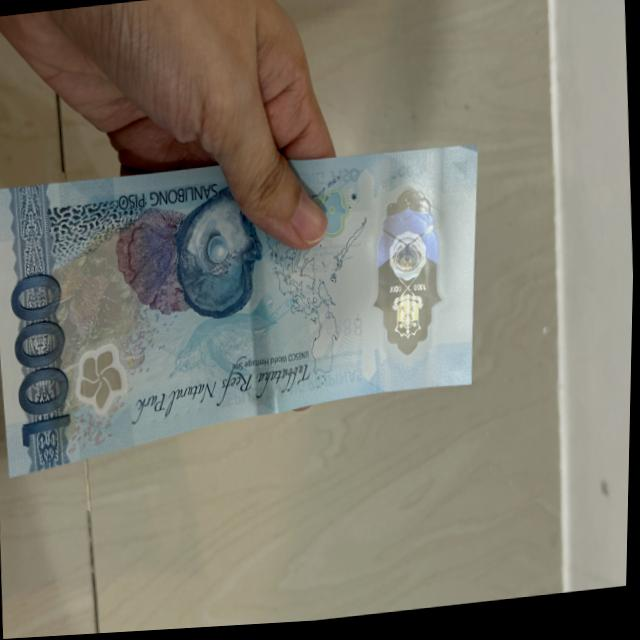clear_window: (367, 182, 451, 359)
sampaguita: (74, 343, 123, 417)
value: (12, 264, 77, 452)
